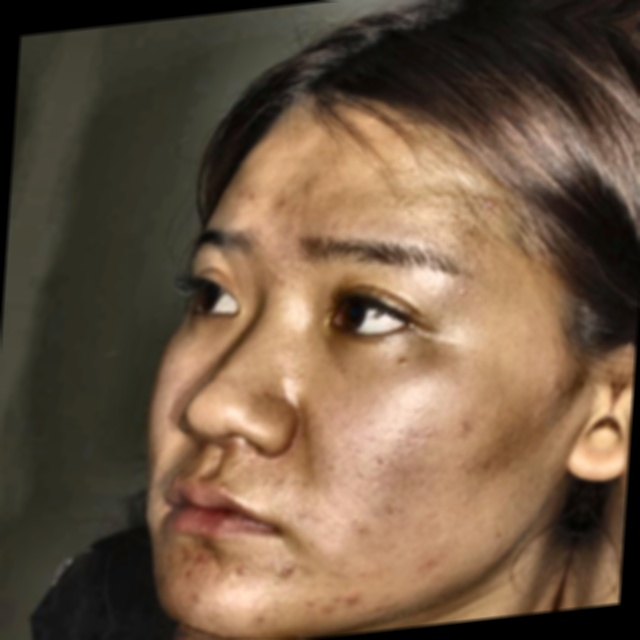comedone: (298, 583, 345, 629), (417, 536, 458, 576), (337, 578, 371, 622)
